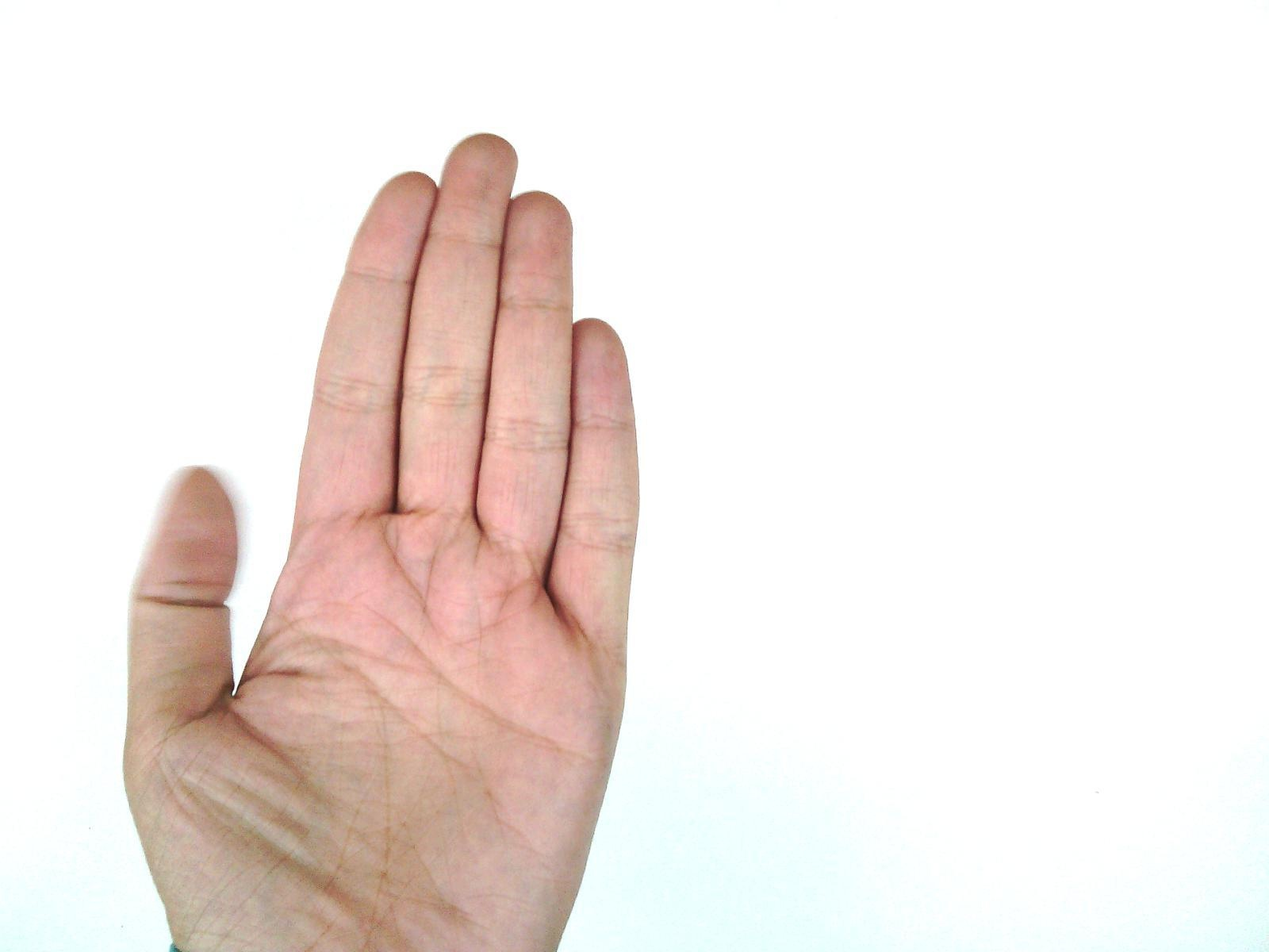open_palm: (121, 132, 644, 952)
